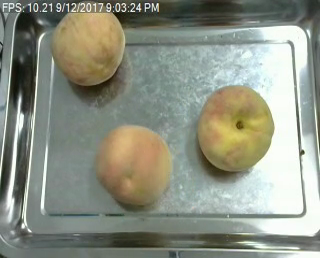Peach: (198, 83, 274, 172), (95, 122, 171, 207), (50, 2, 126, 86)
